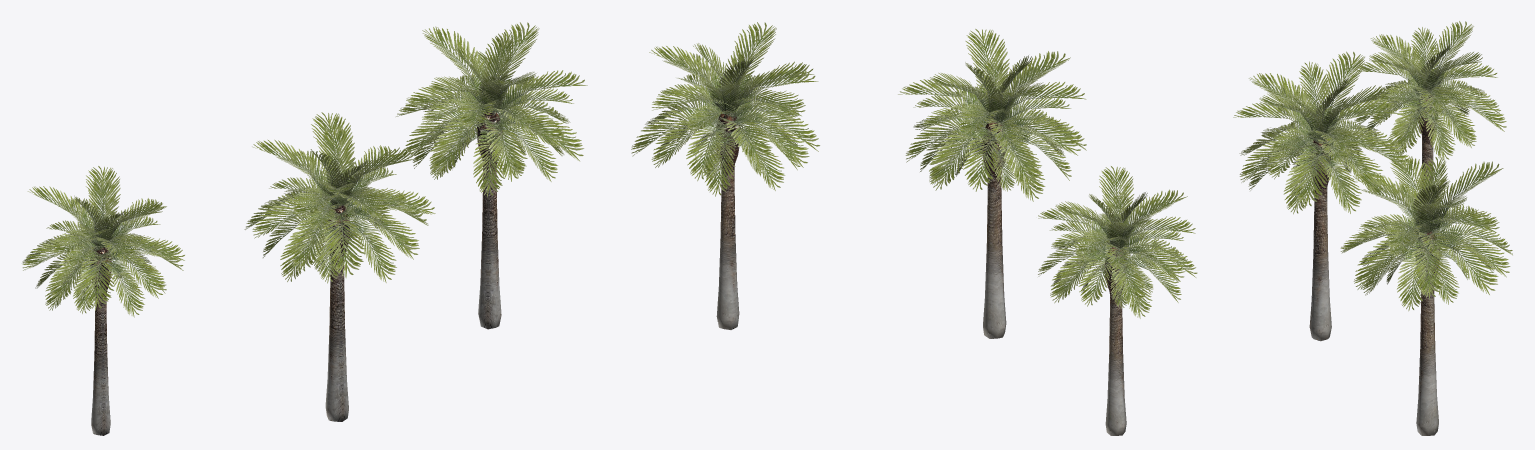
Rendered from tree8.glb.
The picture shows the model from 3 angles, left to right: view 1: azimuth 30°, elevation 25°; view 2: azimuth 150°, elevation 25°; view 3: azimuth 270°, elevation 25°; orthographic projection. The views are drawn at different scales.
Parts seen in each view (by area): view 1: Object_100.002; view 2: Object_100.002; view 3: Object_100.002.
Boxes of the visible parts, x1=… form: Object_100.002: x1=22, y1=22, x2=587, y2=435; Object_100.002: x1=631, y1=22, x2=1197, y2=435; Object_100.002: x1=1233, y1=21, x2=1512, y2=435.
Bounding box in the file's own units: 10 × 5.21 × 4.92.
1 material, 1 textured.
